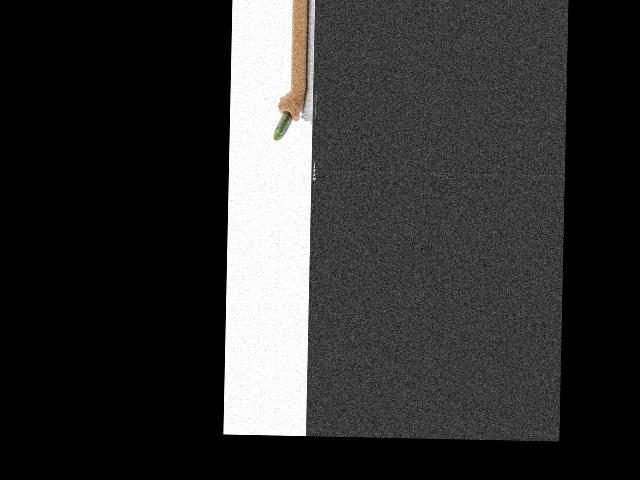cucumber: (273, 110, 293, 140)
